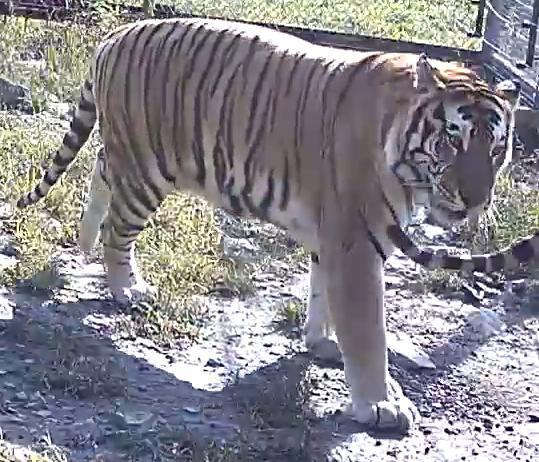tiger: (18, 19, 515, 429)
